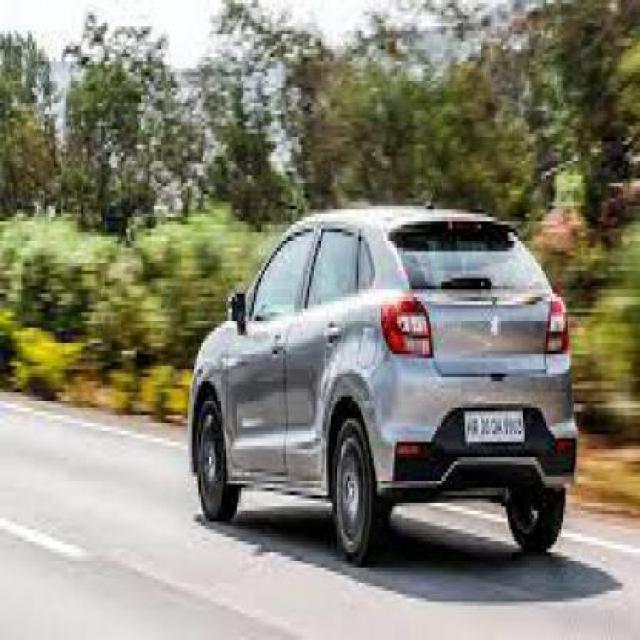vehicle: (180, 190, 596, 598)
